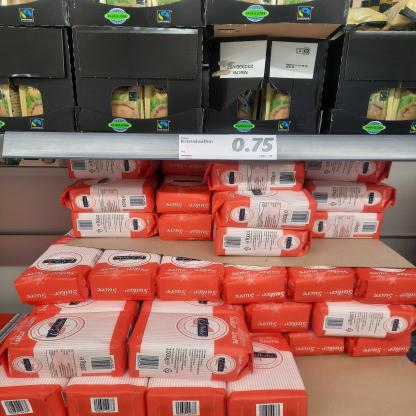prtg: (179, 135, 278, 161)
